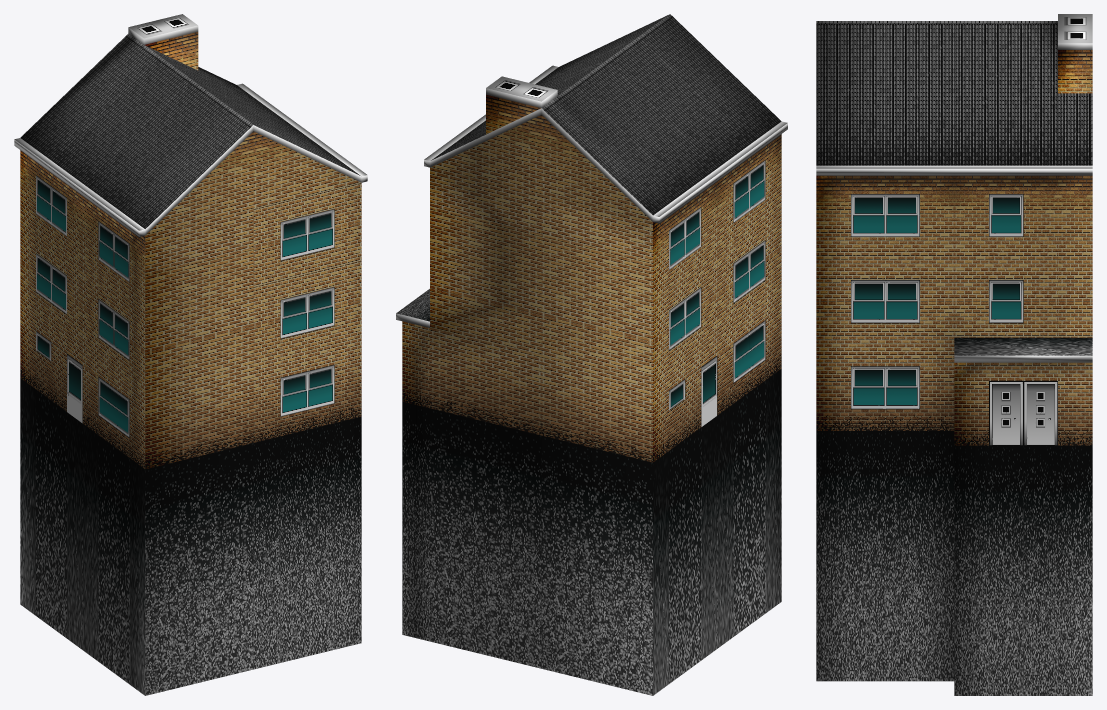
The model's file is maisonet_mod2_1b.fbx.
The picture shows the model from 3 angles, left to right: view 1: azimuth 30°, elevation 25°; view 2: azimuth 150°, elevation 25°; view 3: azimuth 270°, elevation 25°; orthographic projection. The views are drawn at different scales.
Parts seen in each view (by area): view 1: maisonet_mod2_1b; view 2: maisonet_mod2_1b; view 3: maisonet_mod2_1b.
Part boxes in pixels (x1,y1,x2,y2): maisonet_mod2_1b: (14,14,367,695); maisonet_mod2_1b: (396,14,787,695); maisonet_mod2_1b: (816,14,1092,695).
Bounding box in the file's own units: 1062 × 2188 × 900.
